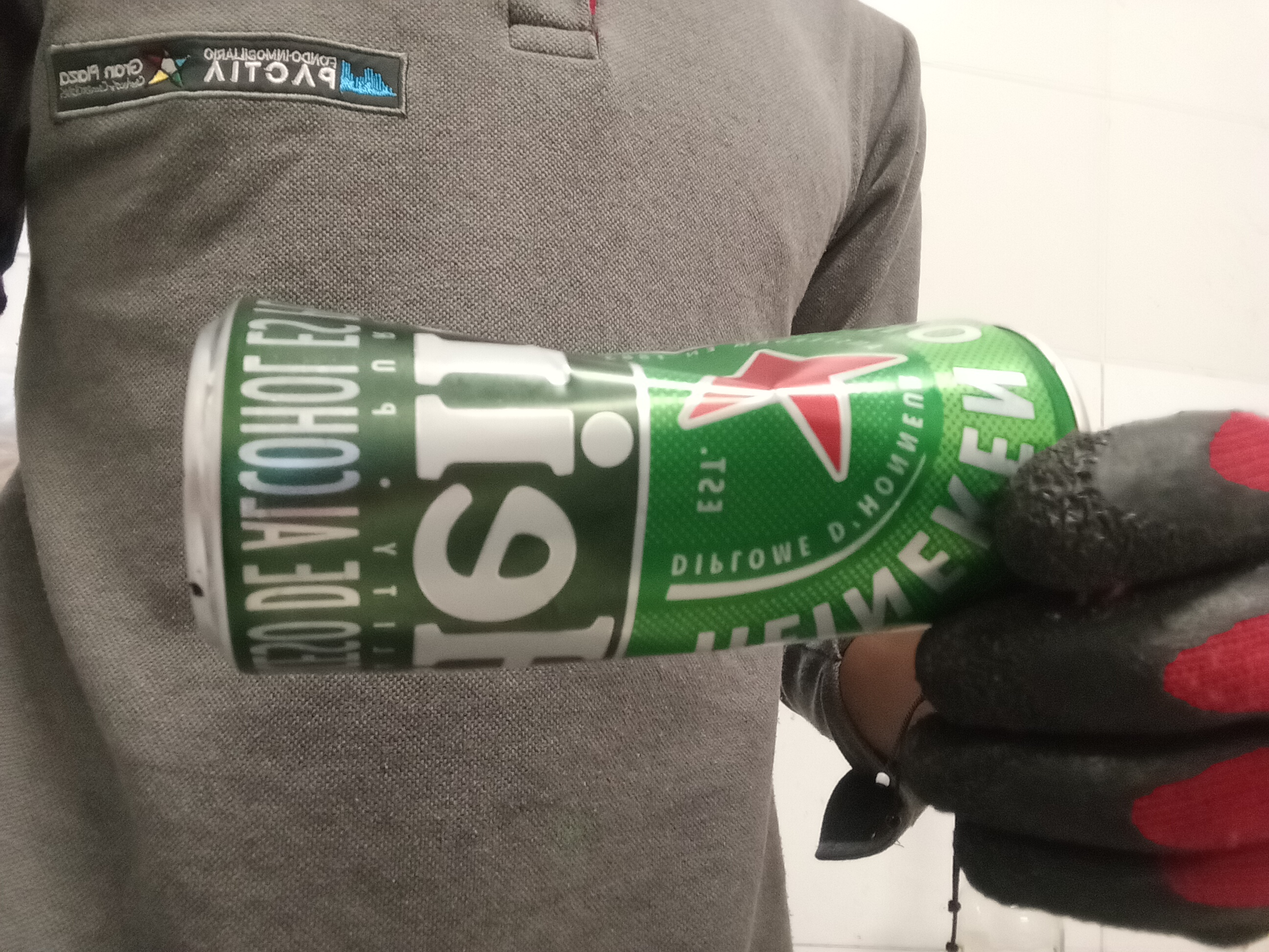Metal: (183, 288, 1096, 676)
